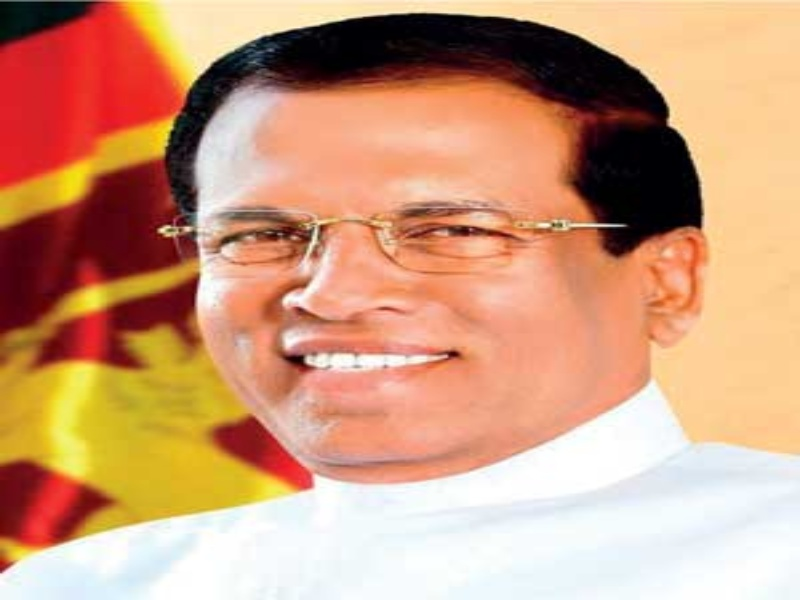face: (199, 122, 555, 432)
